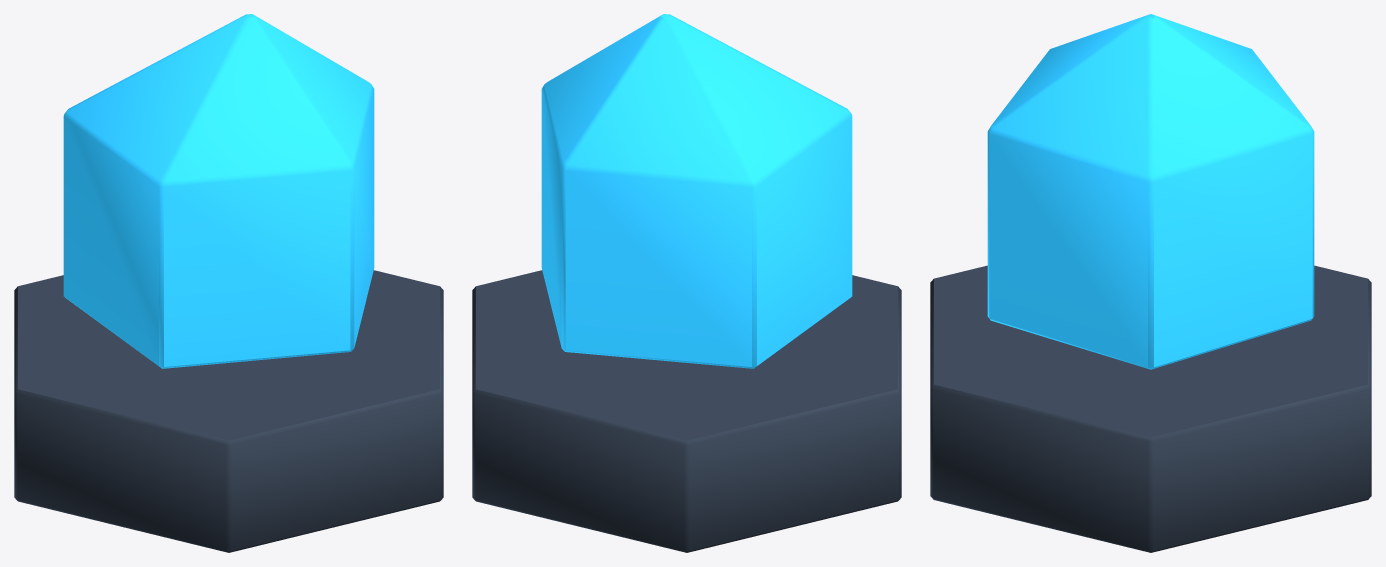
Rendered from energy_node_small_01.glb.
3 renders of one model, left to right at view 1: azimuth 30°, elevation 25°; view 2: azimuth 150°, elevation 25°; view 3: azimuth 270°, elevation 25°, orthographic. The views are drawn at different scales.
Visible parts, largest first — view 1: energy_node_small_01; view 2: energy_node_small_01; view 3: energy_node_small_01.
Part boxes in pixels (left/top/right/bottom): energy_node_small_01: left=14, top=14, right=443, bottom=552; energy_node_small_01: left=472, top=14, right=901, bottom=552; energy_node_small_01: left=930, top=14, right=1371, bottom=552.
Bounding box in the file's own units: 0.556 × 0.5349 × 0.485.
